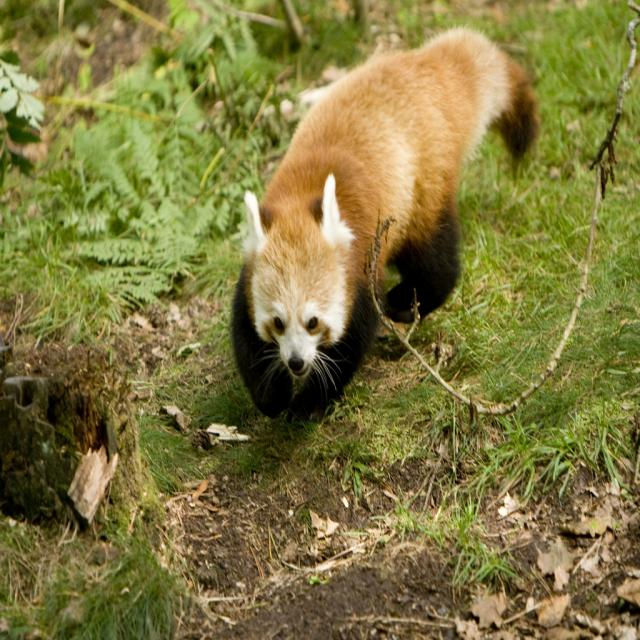Bear: (229, 21, 544, 421)
